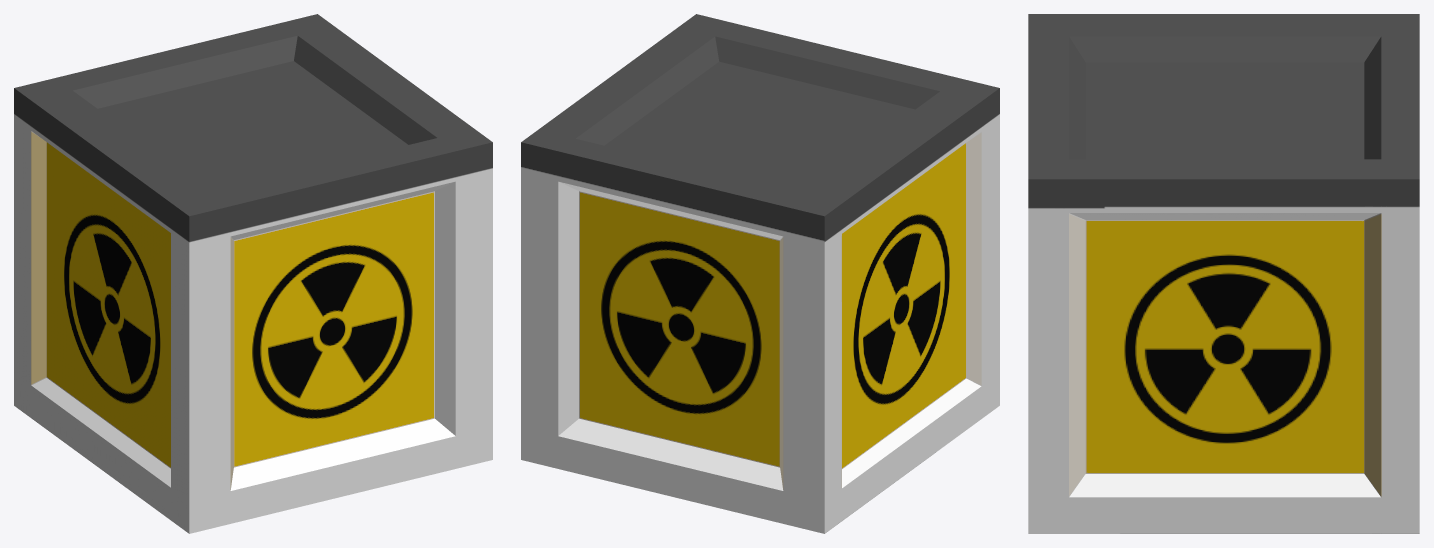
The model's file is Crate_Uranium.obj.
The picture shows the model from 3 angles, left to right: view 1: azimuth 30°, elevation 25°; view 2: azimuth 150°, elevation 25°; view 3: azimuth 270°, elevation 25°; orthographic projection. The views are drawn at different scales.
Parts seen in each view (by area): view 1: Crate:pCube2 Crate:polySurface2 Base_Crate; view 2: Crate:pCube2 Crate:polySurface2 Base_Crate; view 3: Crate:pCube2 Crate:polySurface2 Base_Crate.
Part boxes in pixels (box(x1,y1,x2,y2)): Crate:pCube2 Crate:polySurface2 Base_Crate: box(14, 14, 492, 533); Crate:pCube2 Crate:polySurface2 Base_Crate: box(521, 14, 999, 533); Crate:pCube2 Crate:polySurface2 Base_Crate: box(1028, 14, 1419, 533).
Bounding box in the file's own units: 1 × 1 × 1.
